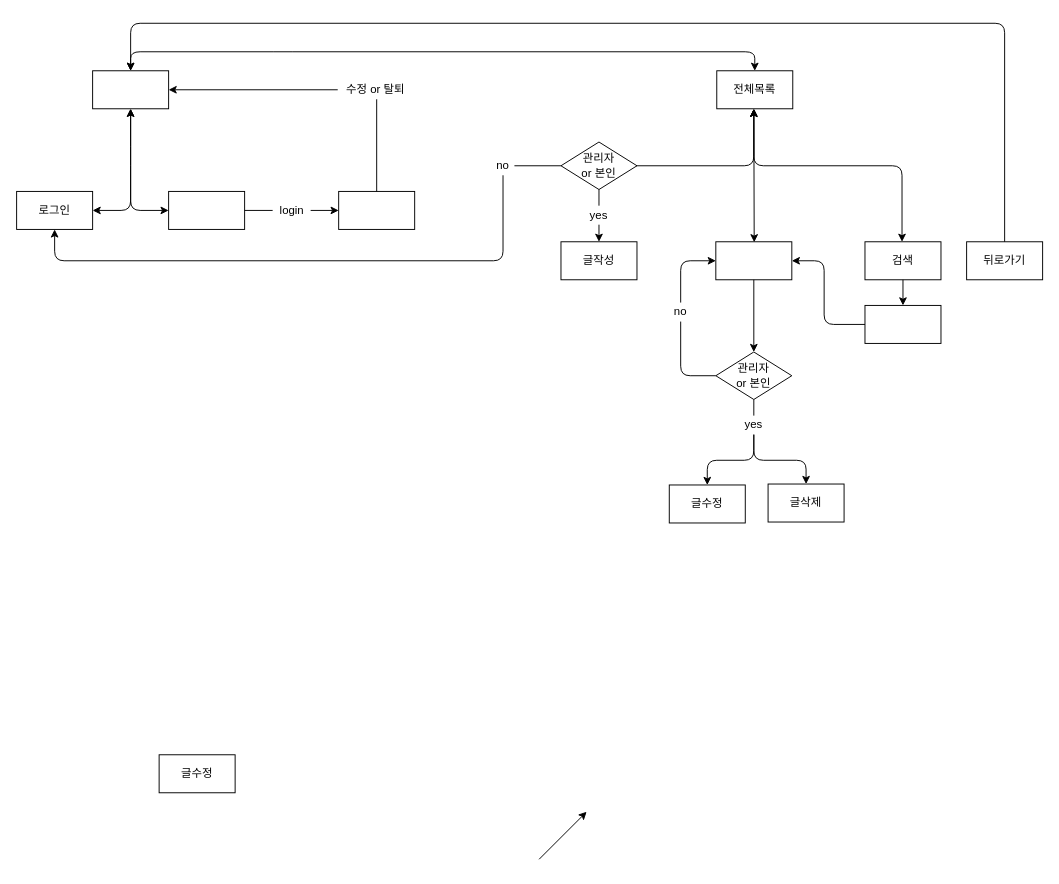
Some shapes in this 1059 by 884 pixel diagram are drawn without their labels. The shapes that lost their labels are listed below. From the top down, each one's centre as x and y in pixels, then its label:
At [130,89]: "메인".
At [206,209]: "회원가입".
At [376,209]: "회원정보수정".
At [753,260]: "글확인".
At [902,323]: "검색목록".
